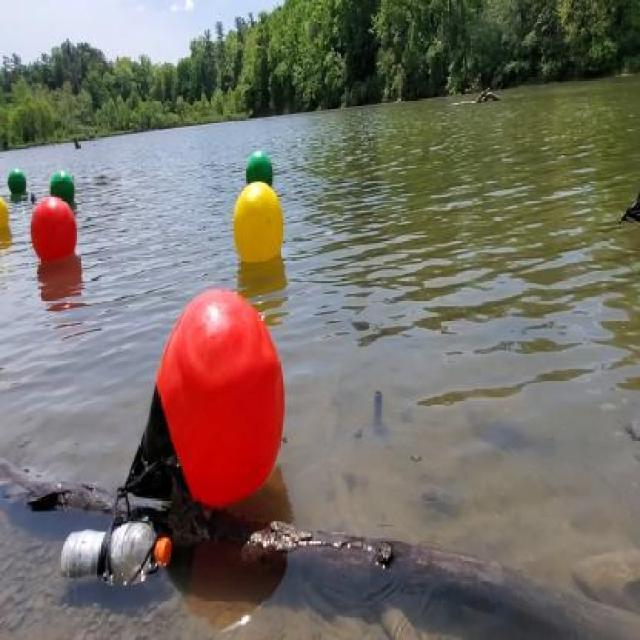buoy: (126, 285, 286, 513), (232, 180, 285, 268), (30, 194, 78, 264), (244, 152, 274, 188), (50, 168, 75, 204), (8, 168, 28, 198), (0, 198, 11, 232)
